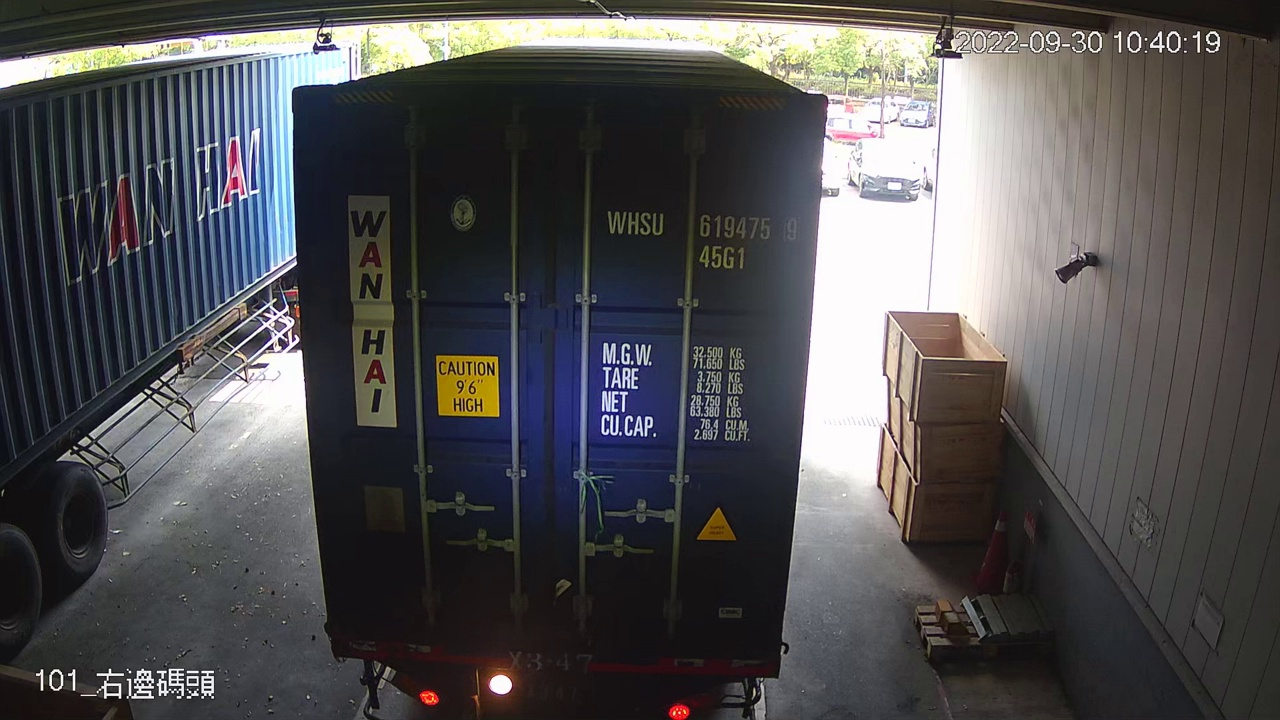container: (601, 203, 805, 275)
